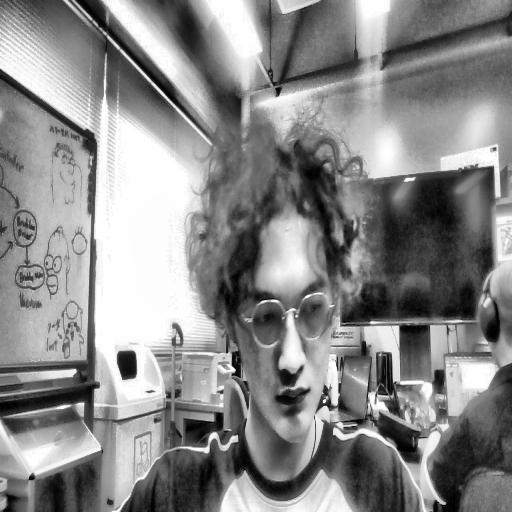Daifuku: (176, 136, 368, 434)
Not Daifuku: (474, 254, 512, 380)
